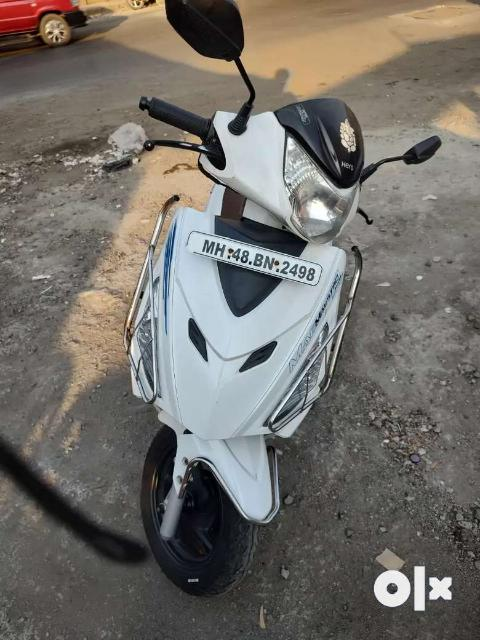Indian_Number_Plate: (186, 231, 322, 286)
